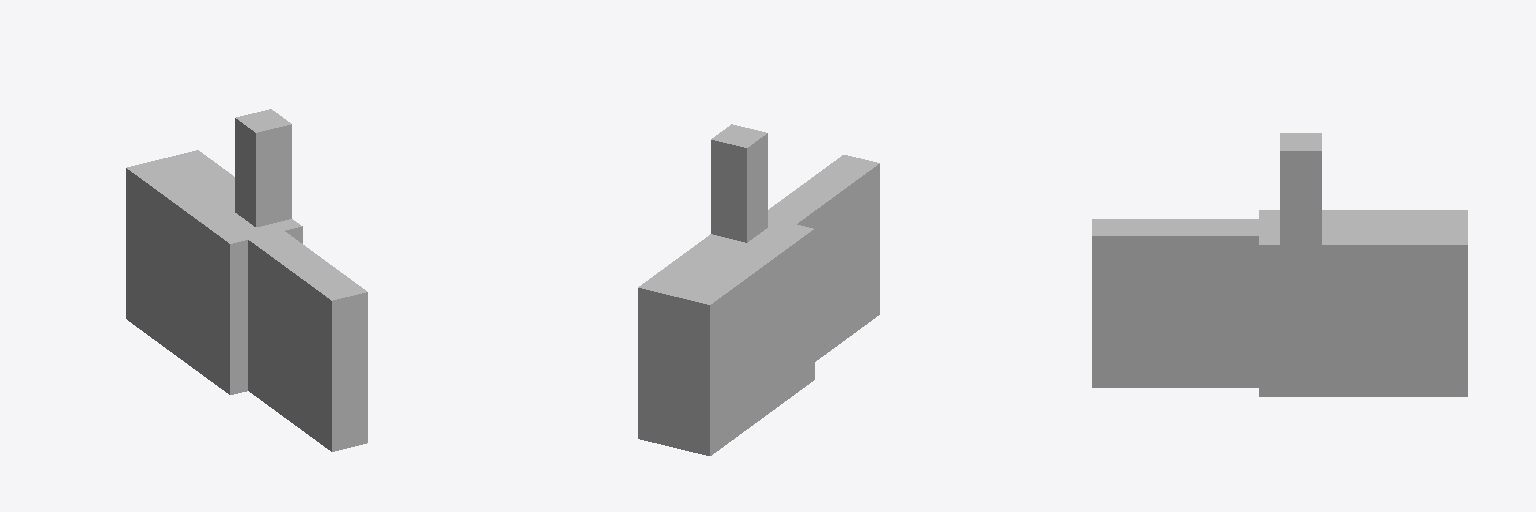
File: vrplayerhandright.obj
3 renders of one model, left to right at view 1: azimuth 30°, elevation 25°; view 2: azimuth 150°, elevation 25°; view 3: azimuth 270°, elevation 25°, orthographic.
Parts seen in each view (by area): view 1: handbod, f1tip, f2tip, f1, thumb, f2, thumbtip; view 2: handbod, f1tip, f1, thumb, f2tip, thumbtip, f2; view 3: handbod, f1tip, f1, f2tip, f2, thumb, thumbtip.
Boxes of the visible parts, x1=… form: handbod: x1=126, y1=150, x2=302, y2=394; f1tip: x1=290, y1=262, x2=367, y2=375; f2tip: x1=290, y1=346, x2=367, y2=451; f1: x1=248, y1=231, x2=325, y2=344; thumb: x1=235, y1=156, x2=291, y2=226; f2: x1=248, y1=315, x2=289, y2=420; thumbtip: x1=235, y1=109, x2=291, y2=170; handbod: x1=638, y1=218, x2=814, y2=455; f1tip: x1=803, y1=155, x2=879, y2=268; f1: x1=768, y1=185, x2=837, y2=285; thumb: x1=711, y1=171, x2=767, y2=242; f2tip: x1=838, y1=239, x2=879, y2=344; thumbtip: x1=711, y1=124, x2=767, y2=185; f2: x1=815, y1=270, x2=837, y2=361; handbod: x1=1259, y1=210, x2=1467, y2=396; f1tip: x1=1092, y1=219, x2=1175, y2=311; f1: x1=1176, y1=219, x2=1258, y2=311; f2tip: x1=1092, y1=312, x2=1175, y2=387; f2: x1=1176, y1=312, x2=1258, y2=387; thumb: x1=1280, y1=188, x2=1321, y2=244; thumbtip: x1=1280, y1=133, x2=1321, y2=187.
Size of the model in its own units: 0.25 by 0.8125 by 1.12.